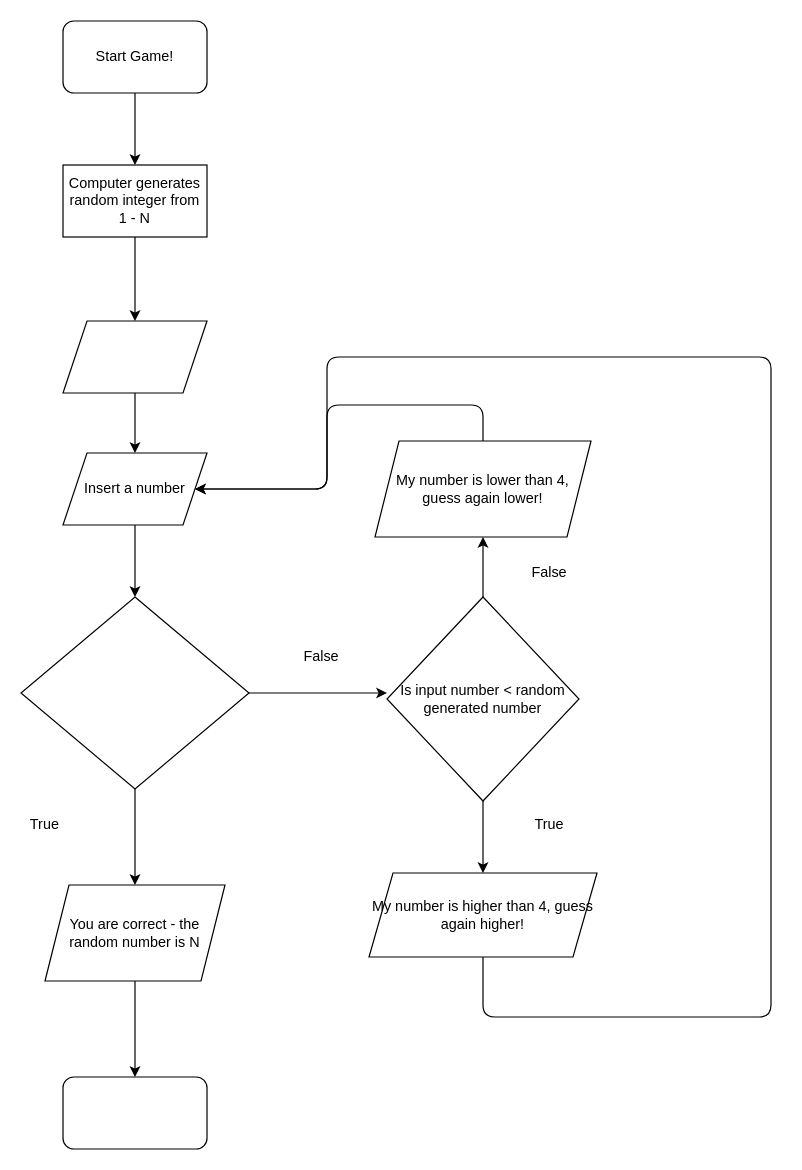
Image size: 802x1170. Some labels were removed from this diagram. Here are the shapes that lost their labels. From the top down, the centre of each, then its label:
At [134,356]: "Guess a number".
At [134,692]: "Is input number = random generated number".
At [134,1112]: "End Game".
